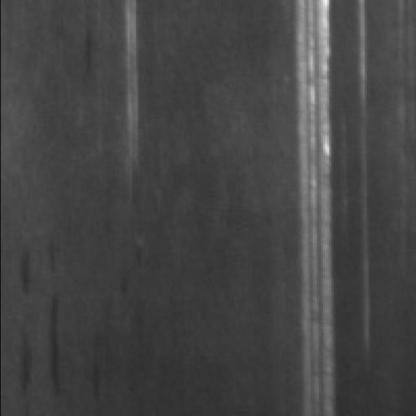scratches: (281, 0, 339, 412), (115, 0, 144, 194)
